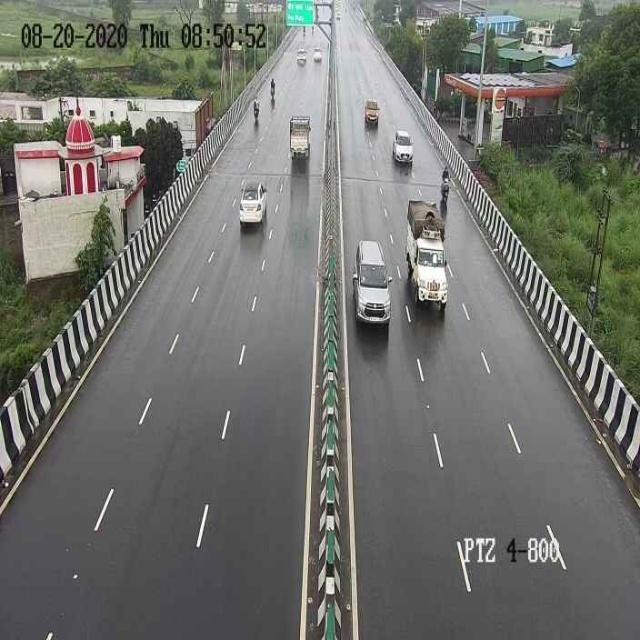car: (401, 192, 453, 321), (351, 229, 392, 336), (234, 177, 270, 236), (389, 126, 417, 170), (359, 96, 383, 131)
